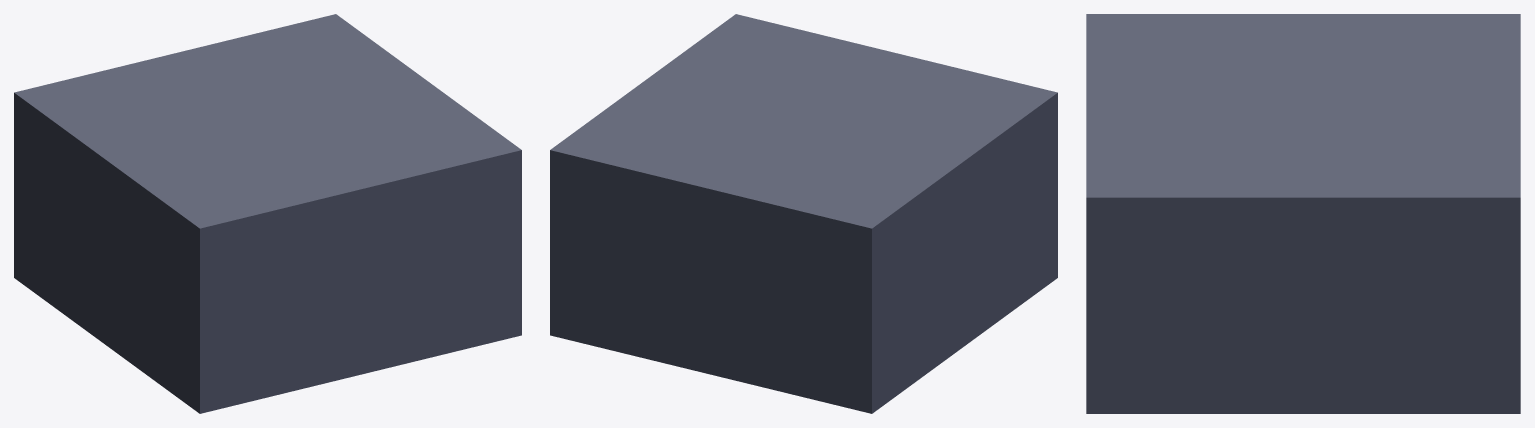
File: garage-low.glb
The picture shows the model from 3 angles, left to right: view 1: azimuth 30°, elevation 25°; view 2: azimuth 150°, elevation 25°; view 3: azimuth 270°, elevation 25°; orthographic projection. The views are drawn at different scales.
Size of the model in its own units: 1 by 0.55 by 1.
